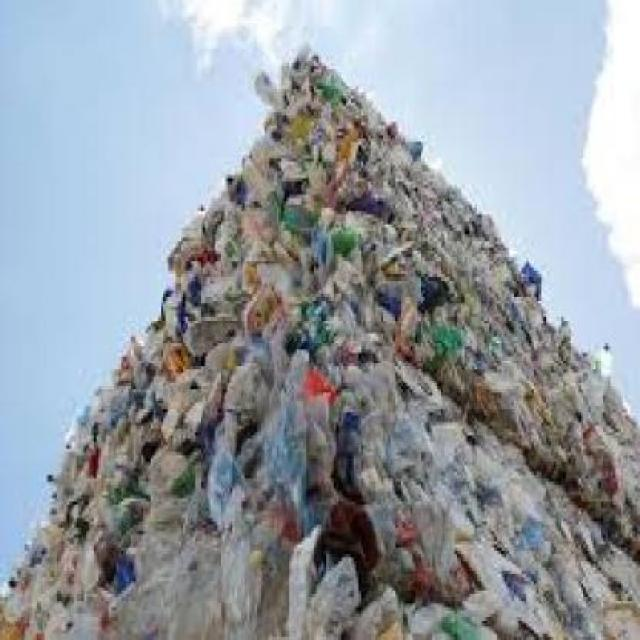garbage: (89, 403, 638, 637), (146, 43, 408, 327), (93, 337, 619, 400), (408, 162, 564, 343), (0, 409, 89, 630)
